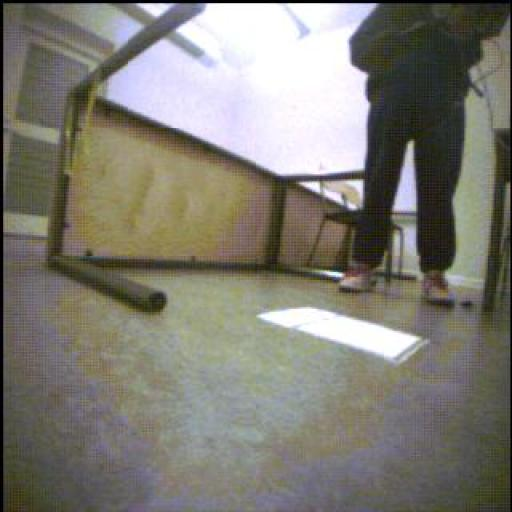Pad: (259, 308, 428, 366)
